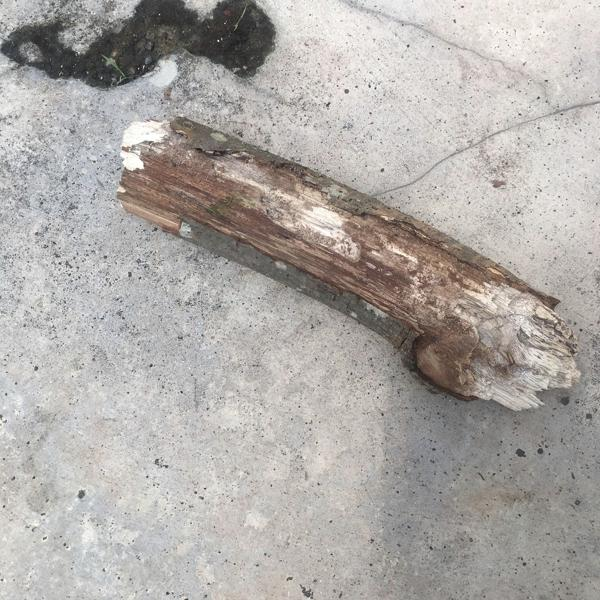Organik: (108, 101, 600, 434)
